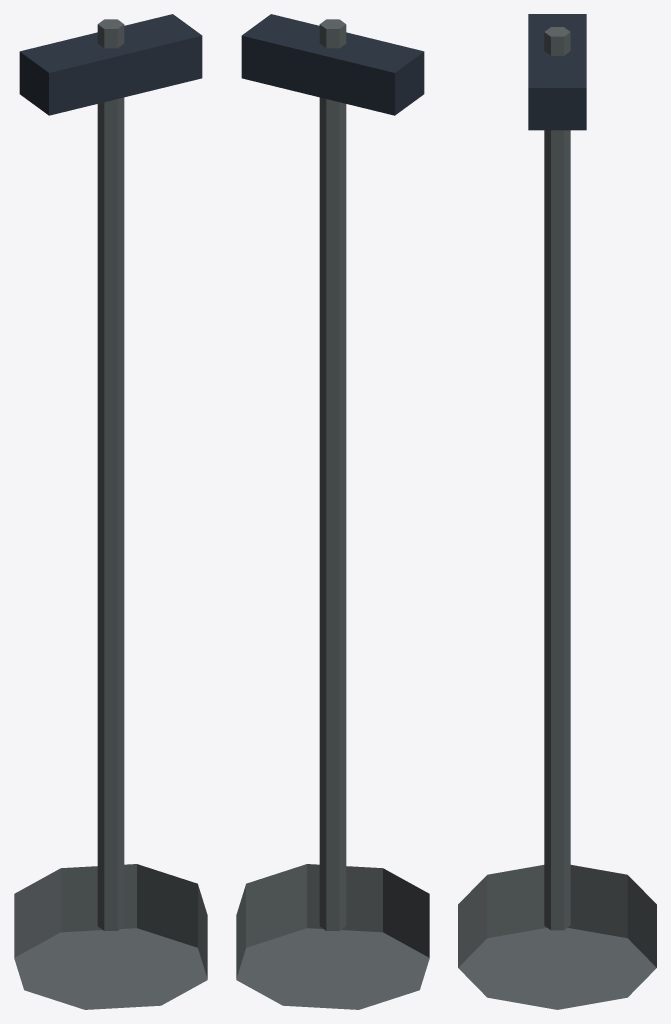
The model's file is drip_stand.glb.
3 renders of one model, left to right at view 1: azimuth 30°, elevation 25°; view 2: azimuth 150°, elevation 25°; view 3: azimuth 270°, elevation 25°, orthographic.
Size of the model in its own units: 0.34 by 1.77 by 0.34.
Materials: 1 (1 with a texture image).
